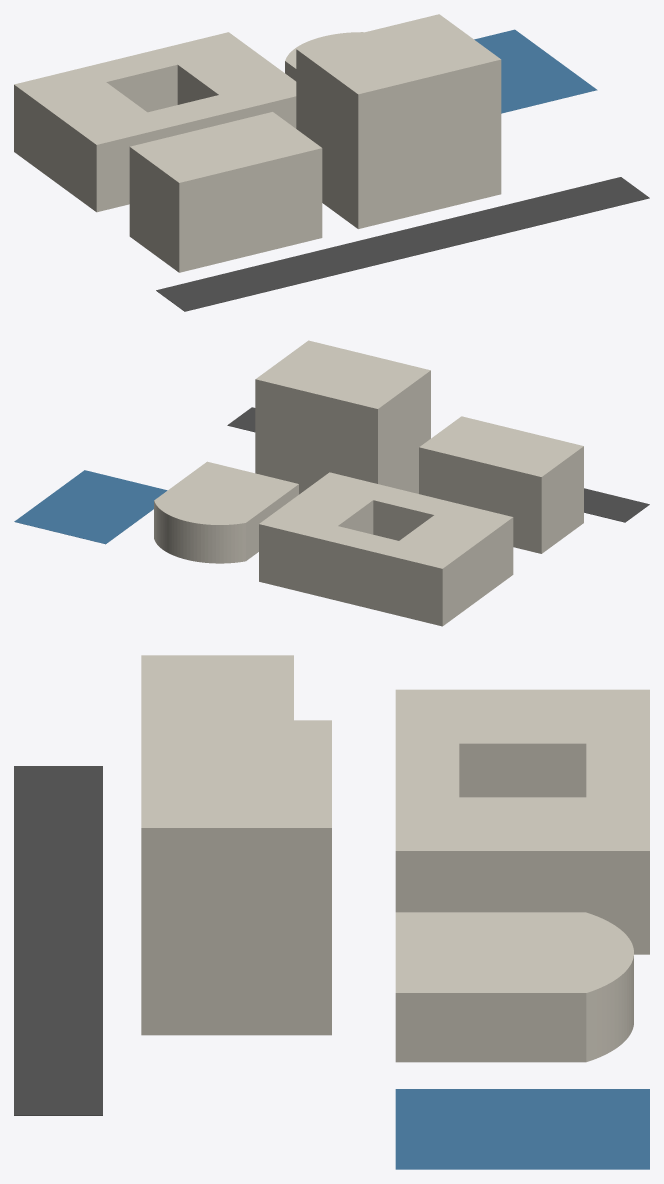
File: block_2d.glb
3 renders of one model, top to bottom at view 1: azimuth 30°, elevation 25°; view 2: azimuth 150°, elevation 25°; view 3: azimuth 270°, elevation 25°, orthographic. The views are drawn at different scales.
Visible parts, largest first — view 1: EDIFICIOS, VIALES, AGUA; view 2: EDIFICIOS, AGUA, VIALES; view 3: EDIFICIOS, VIALES, AGUA.
Boxes of the visible parts, x1,y1,x2,y2 form: EDIFICIOS: (14,14,501,272); VIALES: (156,177,649,311); AGUA: (474,29,597,113); EDIFICIOS: (154,340,583,626); AGUA: (14,470,167,544); VIALES: (227,407,649,522); EDIFICIOS: (141,655,649,1062); VIALES: (14,766,102,1115); AGUA: (395,1089,649,1169).
Bounding box in the file's own units: 75 × 18 × 50.
